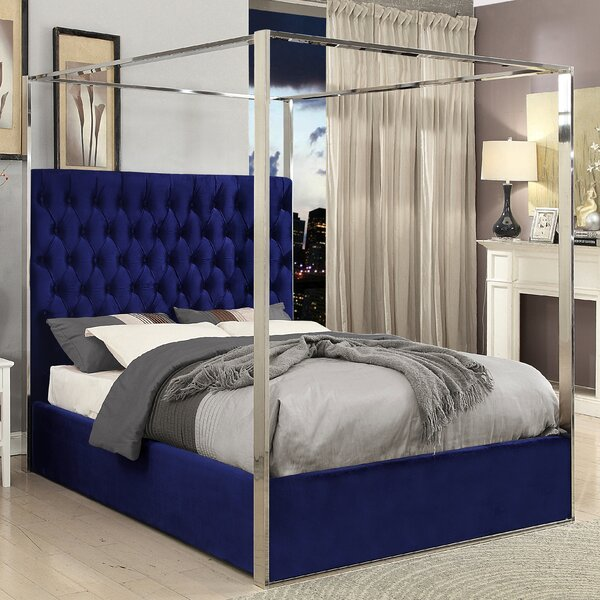bed: (27, 169, 575, 584)
lamp: (481, 140, 539, 239)
